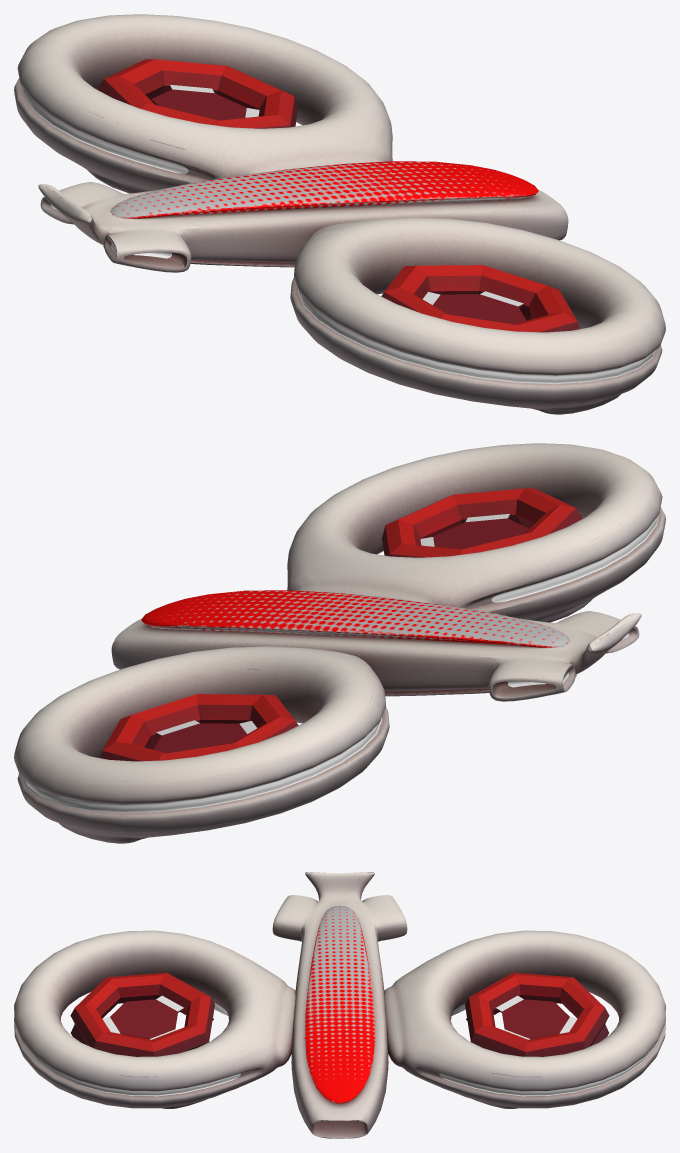
File: Drone3.fbx
The picture shows the model from 3 angles, top to bottom: view 1: azimuth 30°, elevation 25°; view 2: azimuth 150°, elevation 25°; view 3: azimuth 270°, elevation 25°; orthographic projection. The views are drawn at different scales.
Parts seen in each view (by area): view 1: Cube, Cube.002, Cube.001; view 2: Cube, Cube.001, Cube.002; view 3: Cube, Cube.001, Cube.002.
Part boxes in pixels (<box>): Cube: <box>14,14,665,414</box>; Cube.002: <box>97,59,297,128</box>; Cube.001: <box>381,265,579,332</box>; Cube: <box>14,443,665,843</box>; Cube.001: <box>382,488,582,557</box>; Cube.002: <box>100,694,298,761</box>; Cube: <box>14,872,665,1138</box>; Cube.001: <box>70,972,214,1056</box>; Cube.002: <box>465,972,609,1056</box>.
Bounding box in the file's own units: 76.73 × 22.85 × 126.
4 materials, 3 textured.
